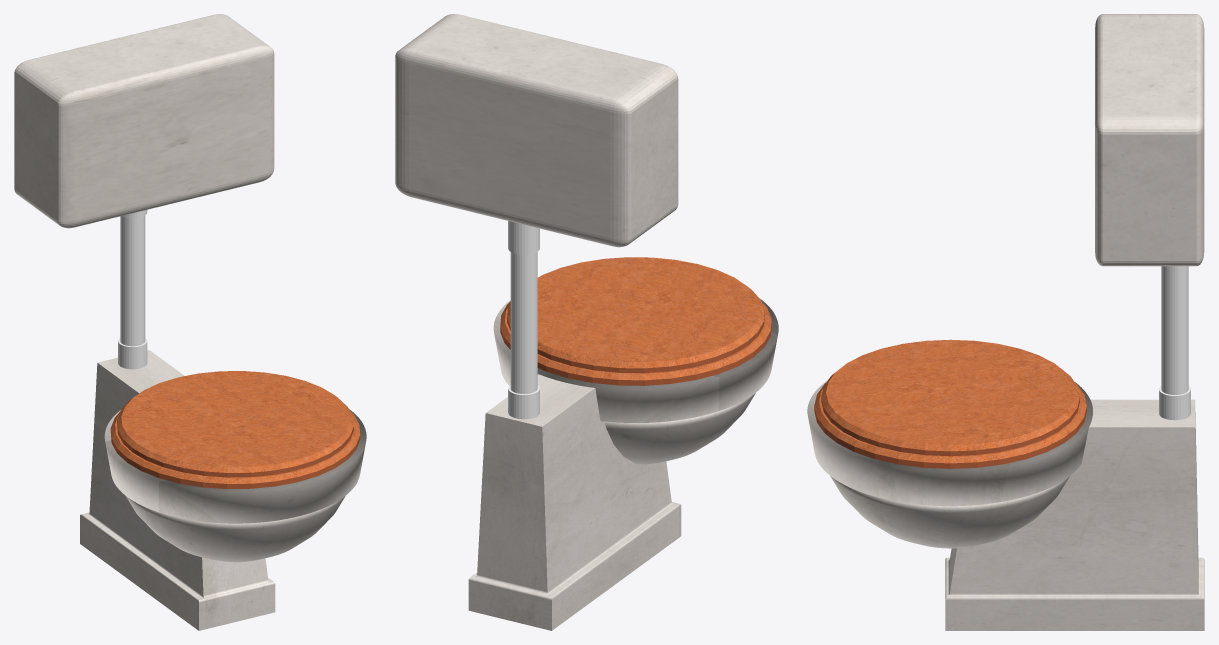
File: унитаз.glb
3 renders of one model, left to right at view 1: azimuth 30°, elevation 25°; view 2: azimuth 150°, elevation 25°; view 3: azimuth 270°, elevation 25°, orthographic. The views are drawn at different scales.
Visible parts, largest first — view 1: Cube.003, Circle.002, Circle; view 2: Cube.003, Circle.002, Circle; view 3: Cube.003, Circle.002, Circle.
Part boxes in pixels (x1,y1,x2,y2): Cube.003: [14, 14, 366, 630]; Circle.002: [110, 371, 360, 488]; Circle: [118, 210, 147, 369]; Cube.003: [395, 14, 778, 630]; Circle.002: [500, 257, 771, 385]; Circle: [508, 221, 539, 419]; Cube.003: [807, 14, 1204, 630]; Circle.002: [814, 339, 1086, 468]; Circle: [1159, 266, 1190, 420].
Bounding box in the file's own units: 1.05 × 2.21 × 1.46.
6 materials, 5 textured.
